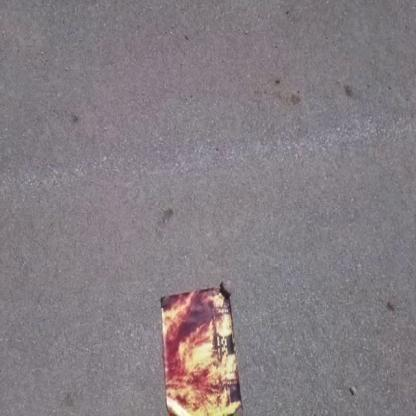fire-poster: (158, 279, 244, 415)
